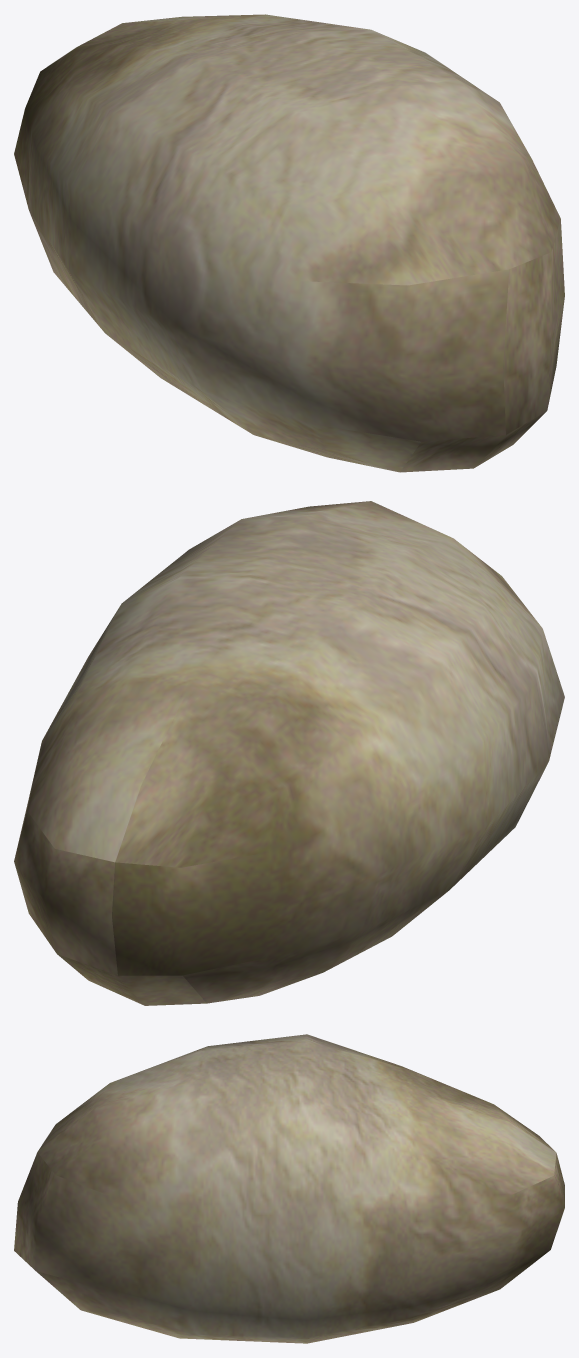
Rendered from M12_asteroid.fbx.
3 renders of one model, top to bottom at view 1: azimuth 30°, elevation 25°; view 2: azimuth 150°, elevation 25°; view 3: azimuth 270°, elevation 25°, orthographic. The views are drawn at different scales.
Visible parts, largest first — view 1: M12_asteroid; view 2: M12_asteroid; view 3: M12_asteroid.
Part boxes in pixels (x1,y1,x2,y2): M12_asteroid: [14, 14, 564, 472]; M12_asteroid: [14, 501, 564, 1005]; M12_asteroid: [14, 1034, 564, 1343].
Size of the model in its own units: 4.91 by 4.21 by 8.29.
